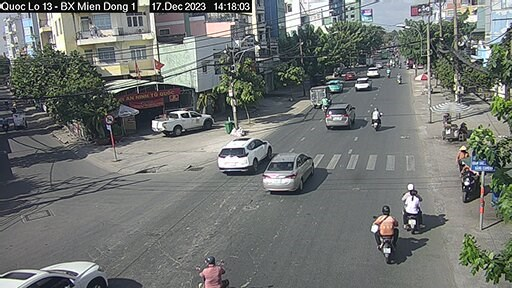car: (261, 151, 314, 192), (216, 135, 270, 174), (152, 110, 217, 137), (326, 103, 357, 128), (326, 77, 344, 93), (354, 80, 375, 92), (365, 66, 381, 79), (340, 67, 356, 80)
motorbike: (374, 207, 400, 260), (402, 183, 426, 234), (368, 106, 385, 132)
truck: (309, 86, 333, 111)
